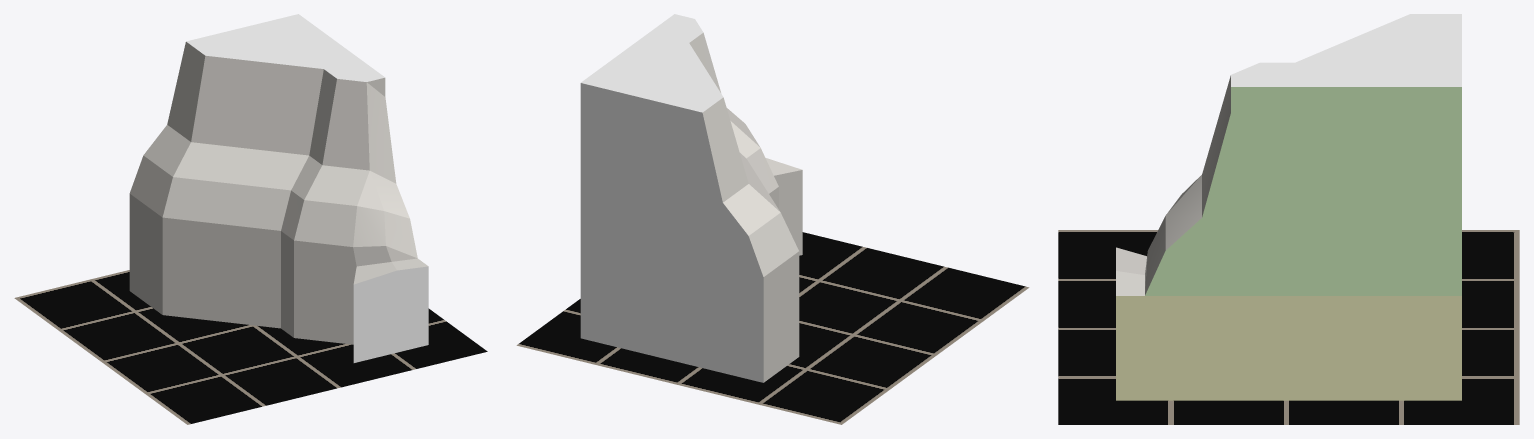
File: Cave_Edge_Esse_Base_3x3.glb
3 views of the same model, side by side, from view 1: azimuth 30°, elevation 25°; view 2: azimuth 150°, elevation 25°; view 3: azimuth 270°, elevation 25° (orthographic). The views are drawn at different scales.
Visible parts, largest first — view 1: Cave_Edge_Esse_Base_3x3, Floor; view 2: Cave_Edge_Esse_Base_3x3, Floor; view 3: Cave_Edge_Esse_Base_3x3, Floor.
Boxes of the visible parts, x1,y1,x2,y2 form: Cave_Edge_Esse_Base_3x3: [129, 14, 428, 362]; Floor: [14, 270, 487, 424]; Cave_Edge_Esse_Base_3x3: [580, 14, 802, 382]; Floor: [516, 232, 1029, 424]; Cave_Edge_Esse_Base_3x3: [1116, 14, 1461, 400]; Floor: [1058, 230, 1519, 424].
Size of the model in its own units: 400 by 300 by 400.
5 materials, 1 textured.
